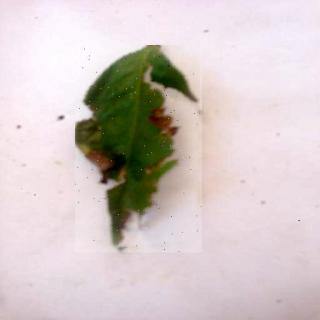Brown Blight: (77, 46, 204, 254)
